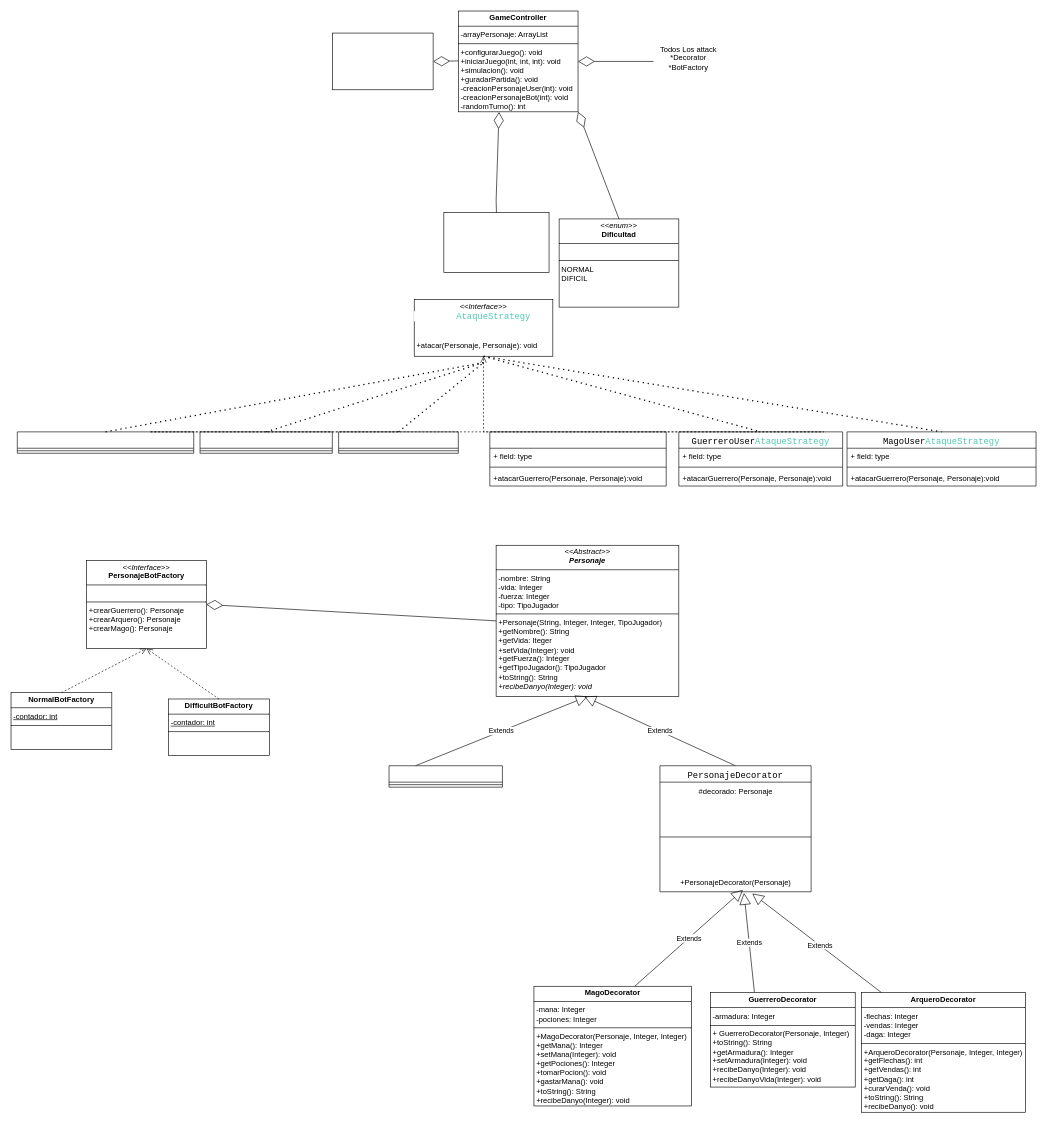
The diagram is 1047 pixels wide and 1123 high, and some of its shapes have lost their labels. The box of each missing label's shape, as (x1, y1, x2, y2) in pixels:
<<enum>> TipoJugador USER BOT: (443, 212, 549, 272)
ArqueroBotAtaqueStrategy: (17, 431, 194, 453)
ArqueroUserAtaqueStrategy: (489, 431, 666, 486)
GuerreroBotAtaqueStrategy: (199, 431, 332, 453)
MagoBotAtaqueStrategy: (338, 431, 458, 453)
Main +p: GameController +p.Configurar: (332, 32, 433, 90)
PersonajeBase: (388, 765, 502, 787)
